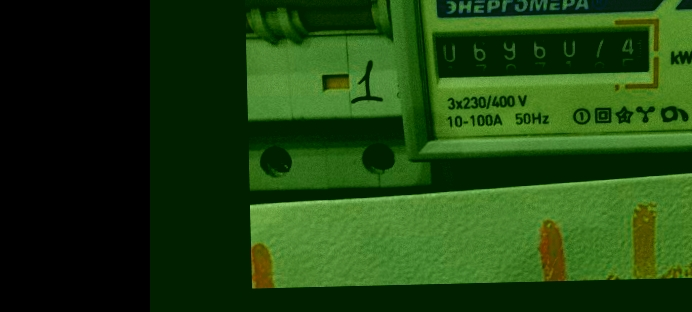0: (439, 38, 458, 62), (561, 33, 577, 58)
4: (619, 31, 635, 54)
5: (620, 56, 637, 72)
6: (532, 33, 549, 60), (471, 37, 488, 61)
7: (591, 33, 608, 58)
9: (501, 35, 517, 61)
screen: (422, 14, 664, 88)
